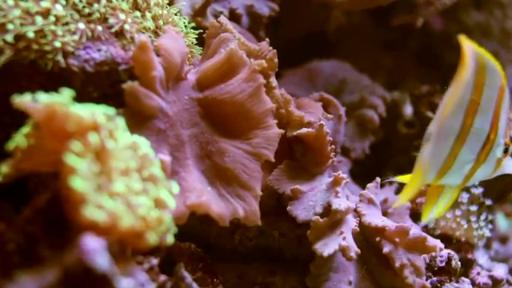Fish: (387, 34, 511, 222)
